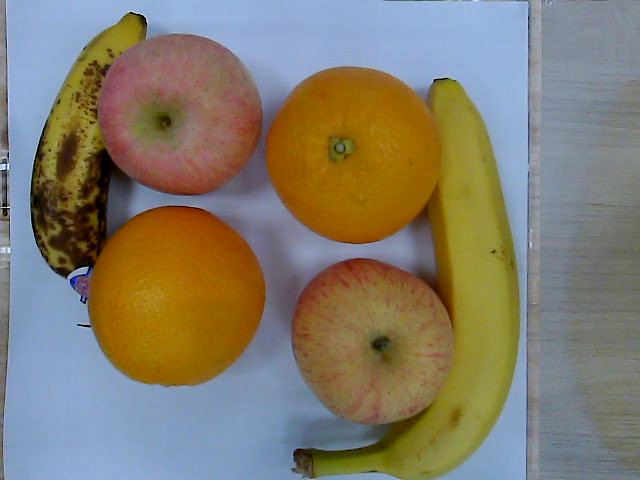fresh_apple: (292, 260, 456, 425), (100, 33, 262, 195)
fresh_banana: (382, 78, 521, 480)
fresh_orange: (86, 206, 263, 387), (267, 68, 438, 244)
rotten_banana: (31, 11, 149, 286)
